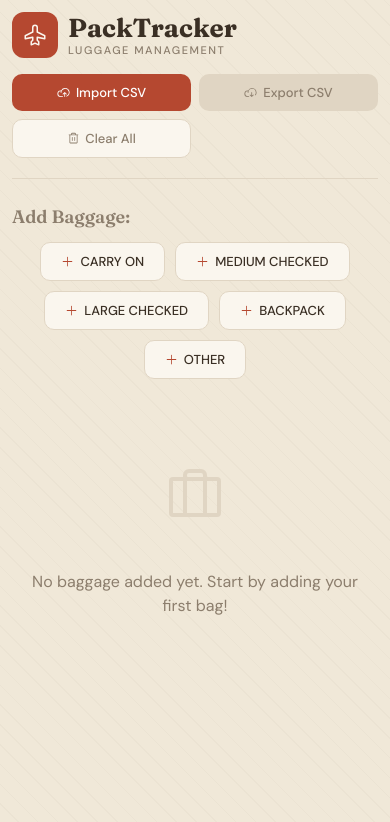
Test: App › shows packed/total count when items are added
Expected: the heading "Add Baggage:" is shown, [12,205,130,228]
Note: Add a baggage
Click the button "CARRY ON". click: (103, 262)
box: [40,242,165,281]
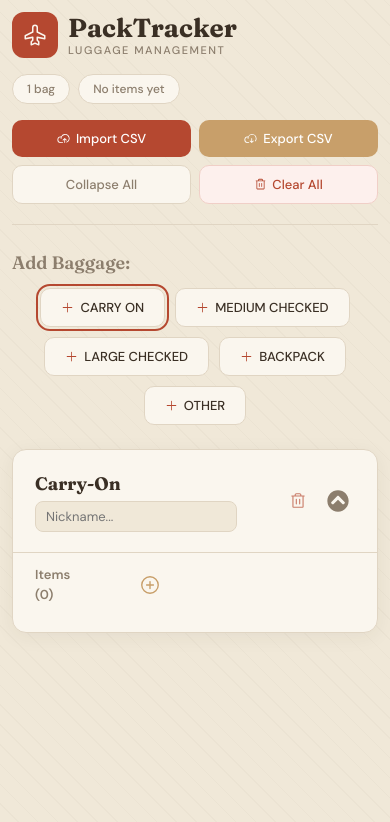
Result: the text "No baggage added yet. Start by adding your first bag!" is gone
Result: the button with class "add-item-btn" is shown
Click the button with class "add-item-btn". click: (150, 584)
box: [83,570,217,600]
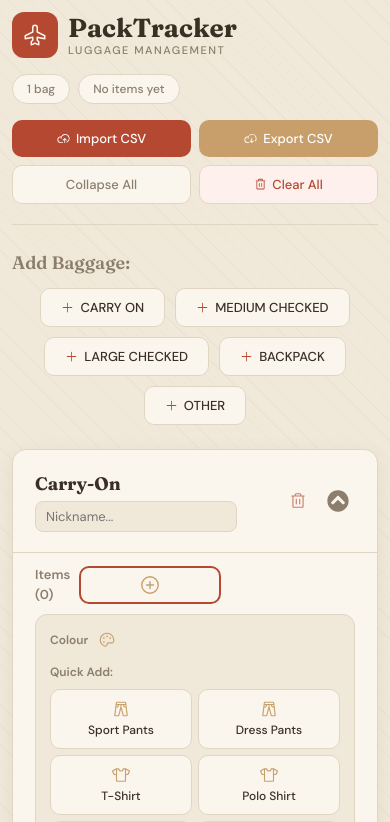
Result: the button "Sport Pants" is shown
Click the button "Sport Pants". click: (121, 719)
box: [50,689,192,749]
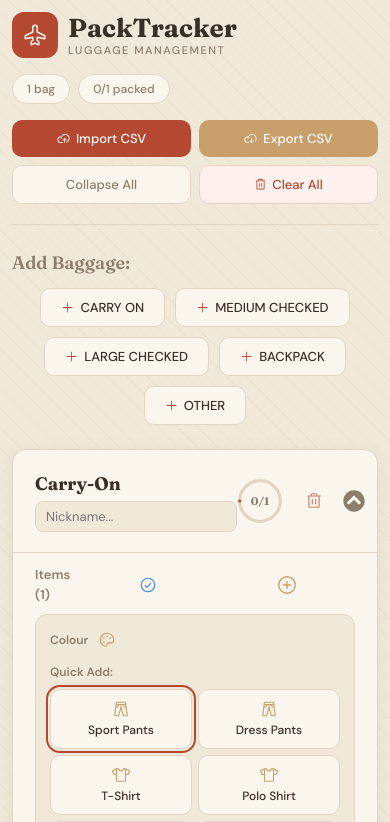
Result: the text "0/1 packed" is shown at [78,74,170,104]
